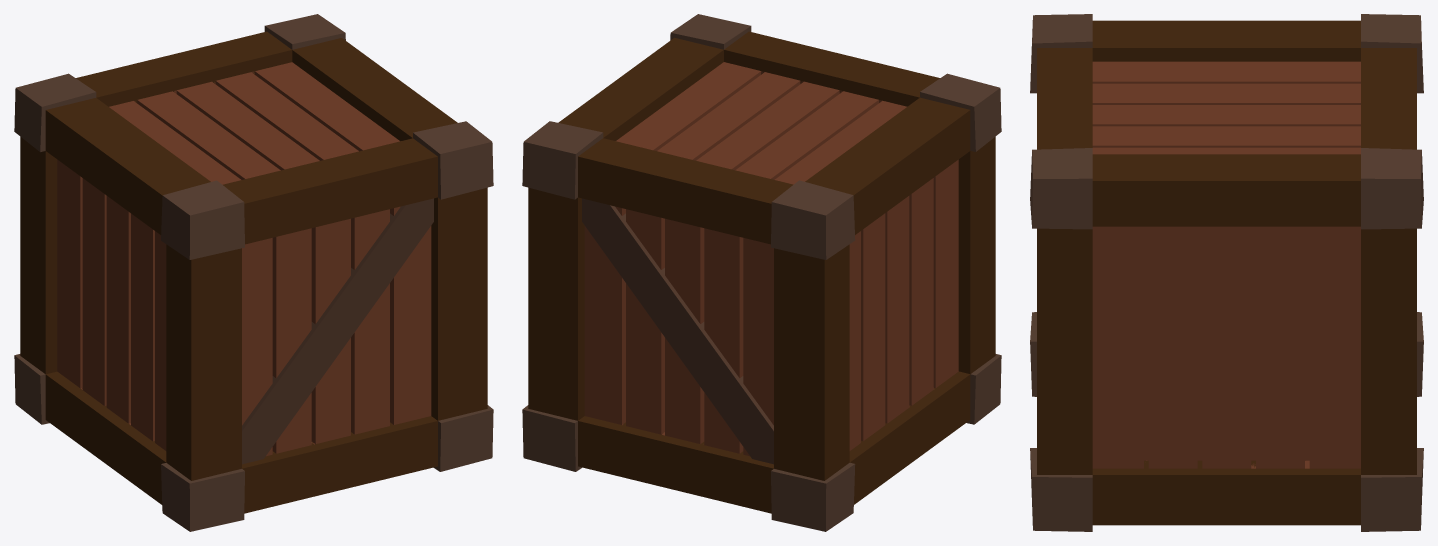
The model's file is WoodemCrate.fbx.
3 views of the same model, side by side, from view 1: azimuth 30°, elevation 25°; view 2: azimuth 150°, elevation 25°; view 3: azimuth 270°, elevation 25° (orthographic). The views are drawn at different scales.
Parts seen in each view (by area): view 1: Cube, Cube.001, Edges, Cube.002; view 2: Cube, Cube.001, Edges, Cube.002; view 3: Cube.001, Cube, Edges.
Boxes of the visible parts, <box> form: Cube: <box>20,31,487,513</box>; Cube.001: <box>57,62,431,456</box>; Edges: <box>14,14,493,531</box>; Cube.002: <box>242,198,433,464</box>; Cube: <box>528,31,995,513</box>; Cube.001: <box>584,62,958,456</box>; Edges: <box>522,14,1001,531</box>; Cube.002: <box>582,198,773,464</box>; Cube.001: <box>1092,61,1360,468</box>; Cube: <box>1037,20,1416,525</box>; Edges: <box>1030,14,1423,531</box>.
Size of the model in its own units: 207 by 207 by 207.
